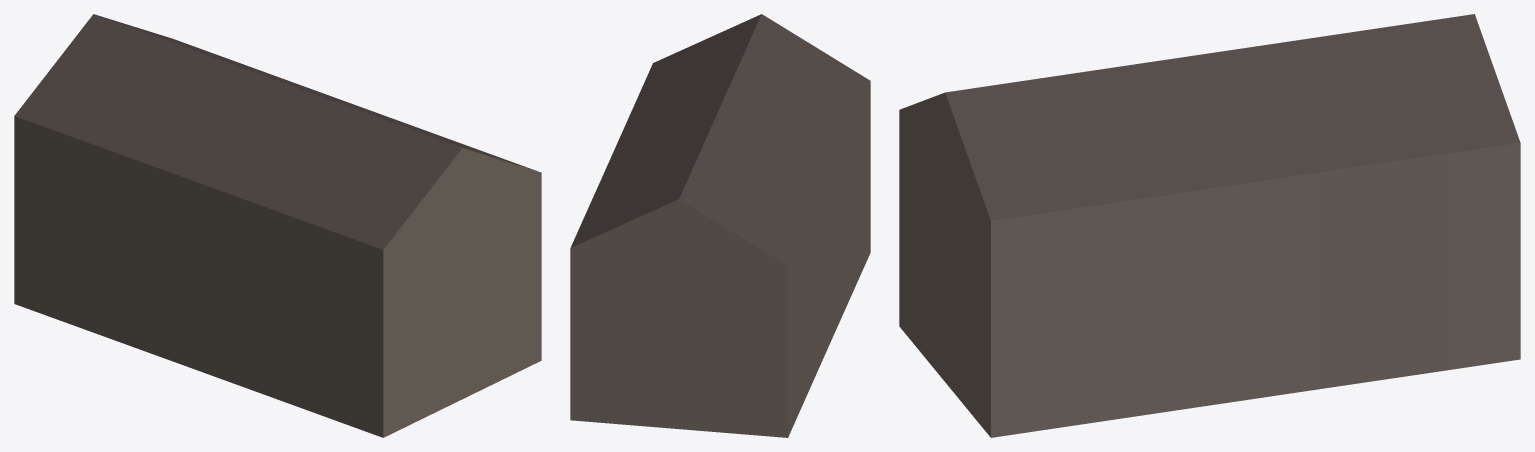
3 views of the same model, side by side, from view 1: azimuth 30°, elevation 25°; view 2: azimuth 150°, elevation 25°; view 3: azimuth 270°, elevation 25° (orthographic). The views are drawn at different scales.
Parts seen in each view (by area): view 1: HP-w1198645042; view 2: HP-w1198645042; view 3: HP-w1198645042.
Part boxes in pixels (x1=…): HP-w1198645042: x1=14, y1=14, x2=541, y2=437; HP-w1198645042: x1=570, y1=14, x2=870, y2=437; HP-w1198645042: x1=899, y1=14, x2=1520, y2=437.
Bounding box in the file's own units: 11.27 × 8.02 × 15.58.
